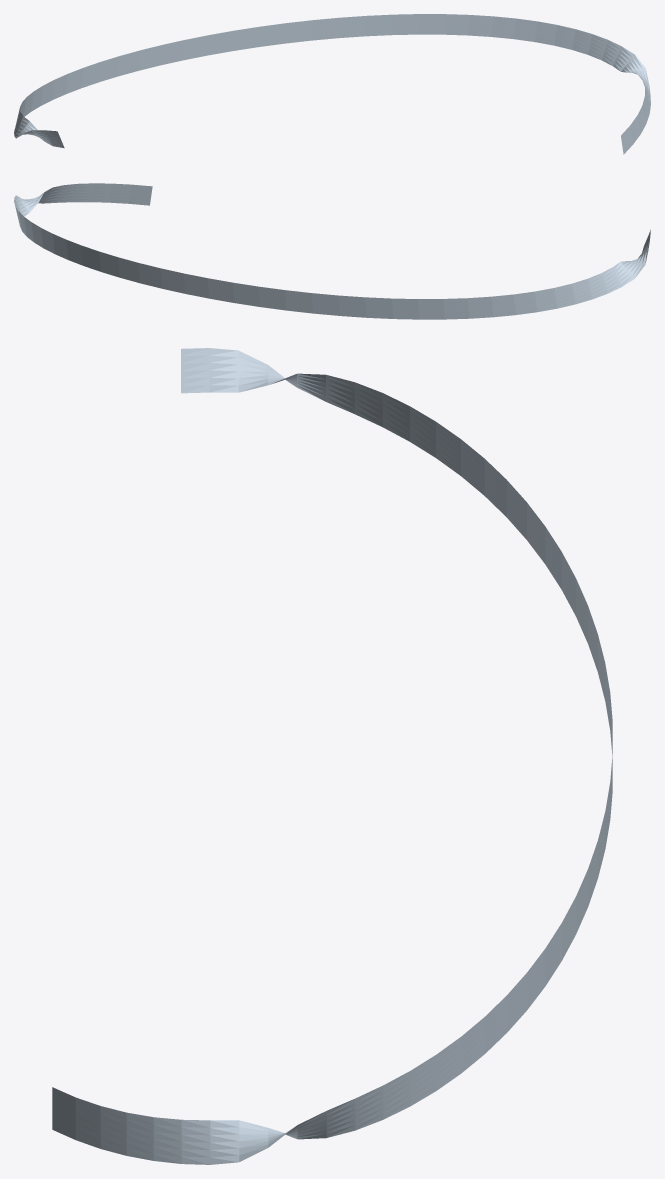
The model's file is 2084_WateryRebirth_Overall_OwnRebirthFlow_8.fbx.
3 renders of one model, top to bottom at view 1: azimuth 30°, elevation 25°; view 2: azimuth 150°, elevation 25°; view 3: azimuth 270°, elevation 25°, orthographic. The views are drawn at different scales.
Visible parts, largest first — view 1: PART_Hydro_OwnRebirthFlow_8; view 2: PART_Hydro_OwnRebirthFlow_8; view 3: PART_Hydro_OwnRebirthFlow_8.
Boxes of the visible parts, left/top/right/bottom form: PART_Hydro_OwnRebirthFlow_8: left=14, top=14, right=650, bottom=154; PART_Hydro_OwnRebirthFlow_8: left=14, top=183, right=650, bottom=319; PART_Hydro_OwnRebirthFlow_8: left=52, top=348, right=612, bottom=1164.
Bounding box in the file's own units: 227 × 45.12 × 88.04.
